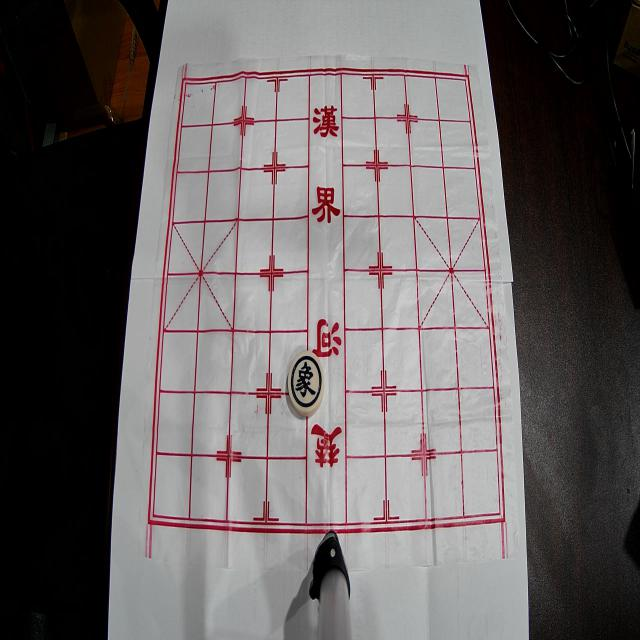black-elephant: (288, 351, 324, 417)
